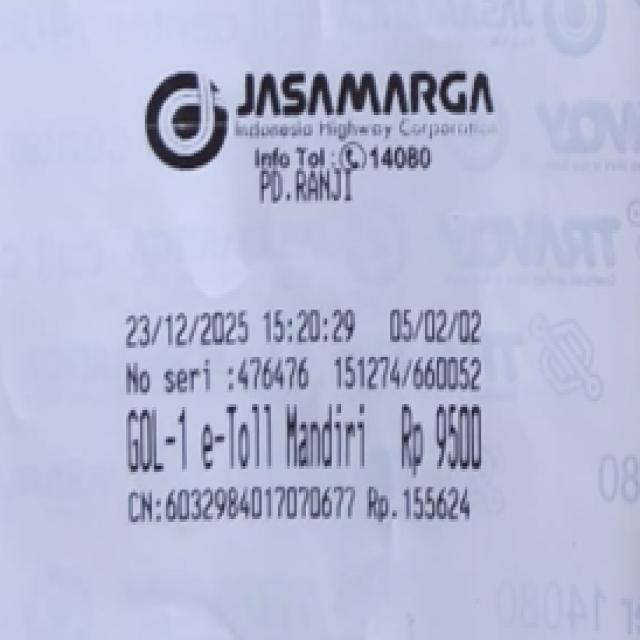date: (124, 308, 358, 342)
store: (220, 74, 502, 123)
total: (392, 403, 496, 474)
